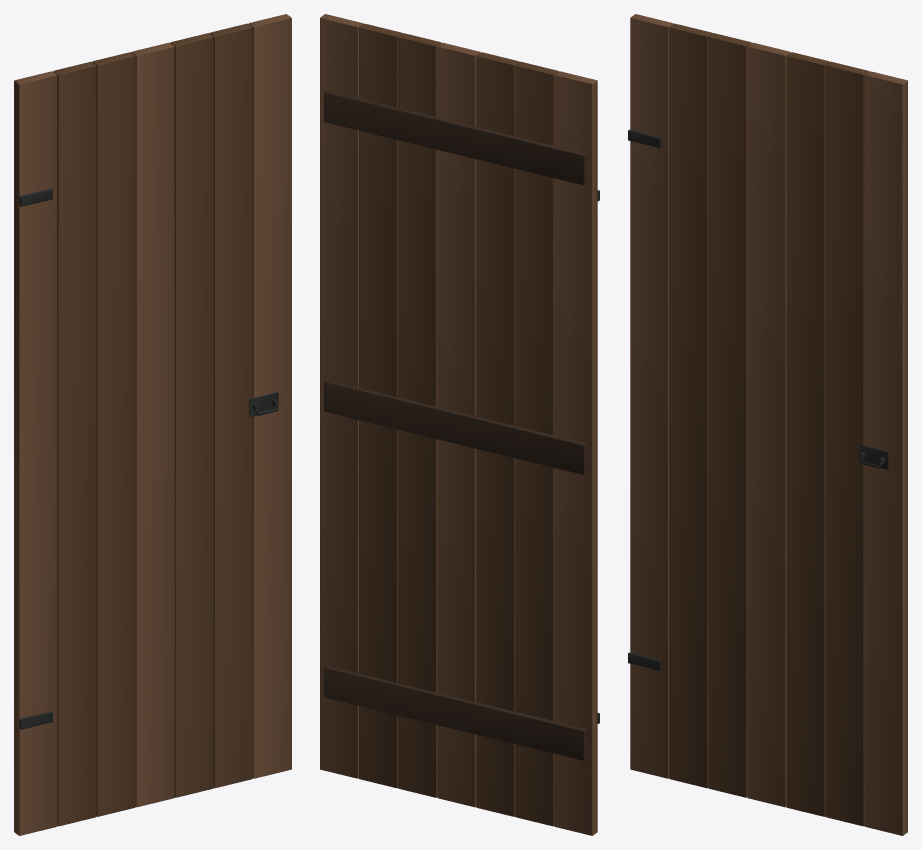
The model's file is kominka-door-itado-01.glb.
3 views of the same model, side by side, from view 1: azimuth 30°, elevation 25°; view 2: azimuth 150°, elevation 25°; view 3: azimuth 330°, elevation 25° (orthographic).
Visible parts, largest first — view 1: kominka-door-itado-01; view 2: kominka-door-itado-01; view 3: kominka-door-itado-01.
Part boxes in pixels (x1,y1,x2,y2): kominka-door-itado-01: [14, 14, 291, 835]; kominka-door-itado-01: [320, 14, 599, 835]; kominka-door-itado-01: [628, 14, 907, 835].
Size of the model in its own units: 0.76 by 2 by 0.06.
